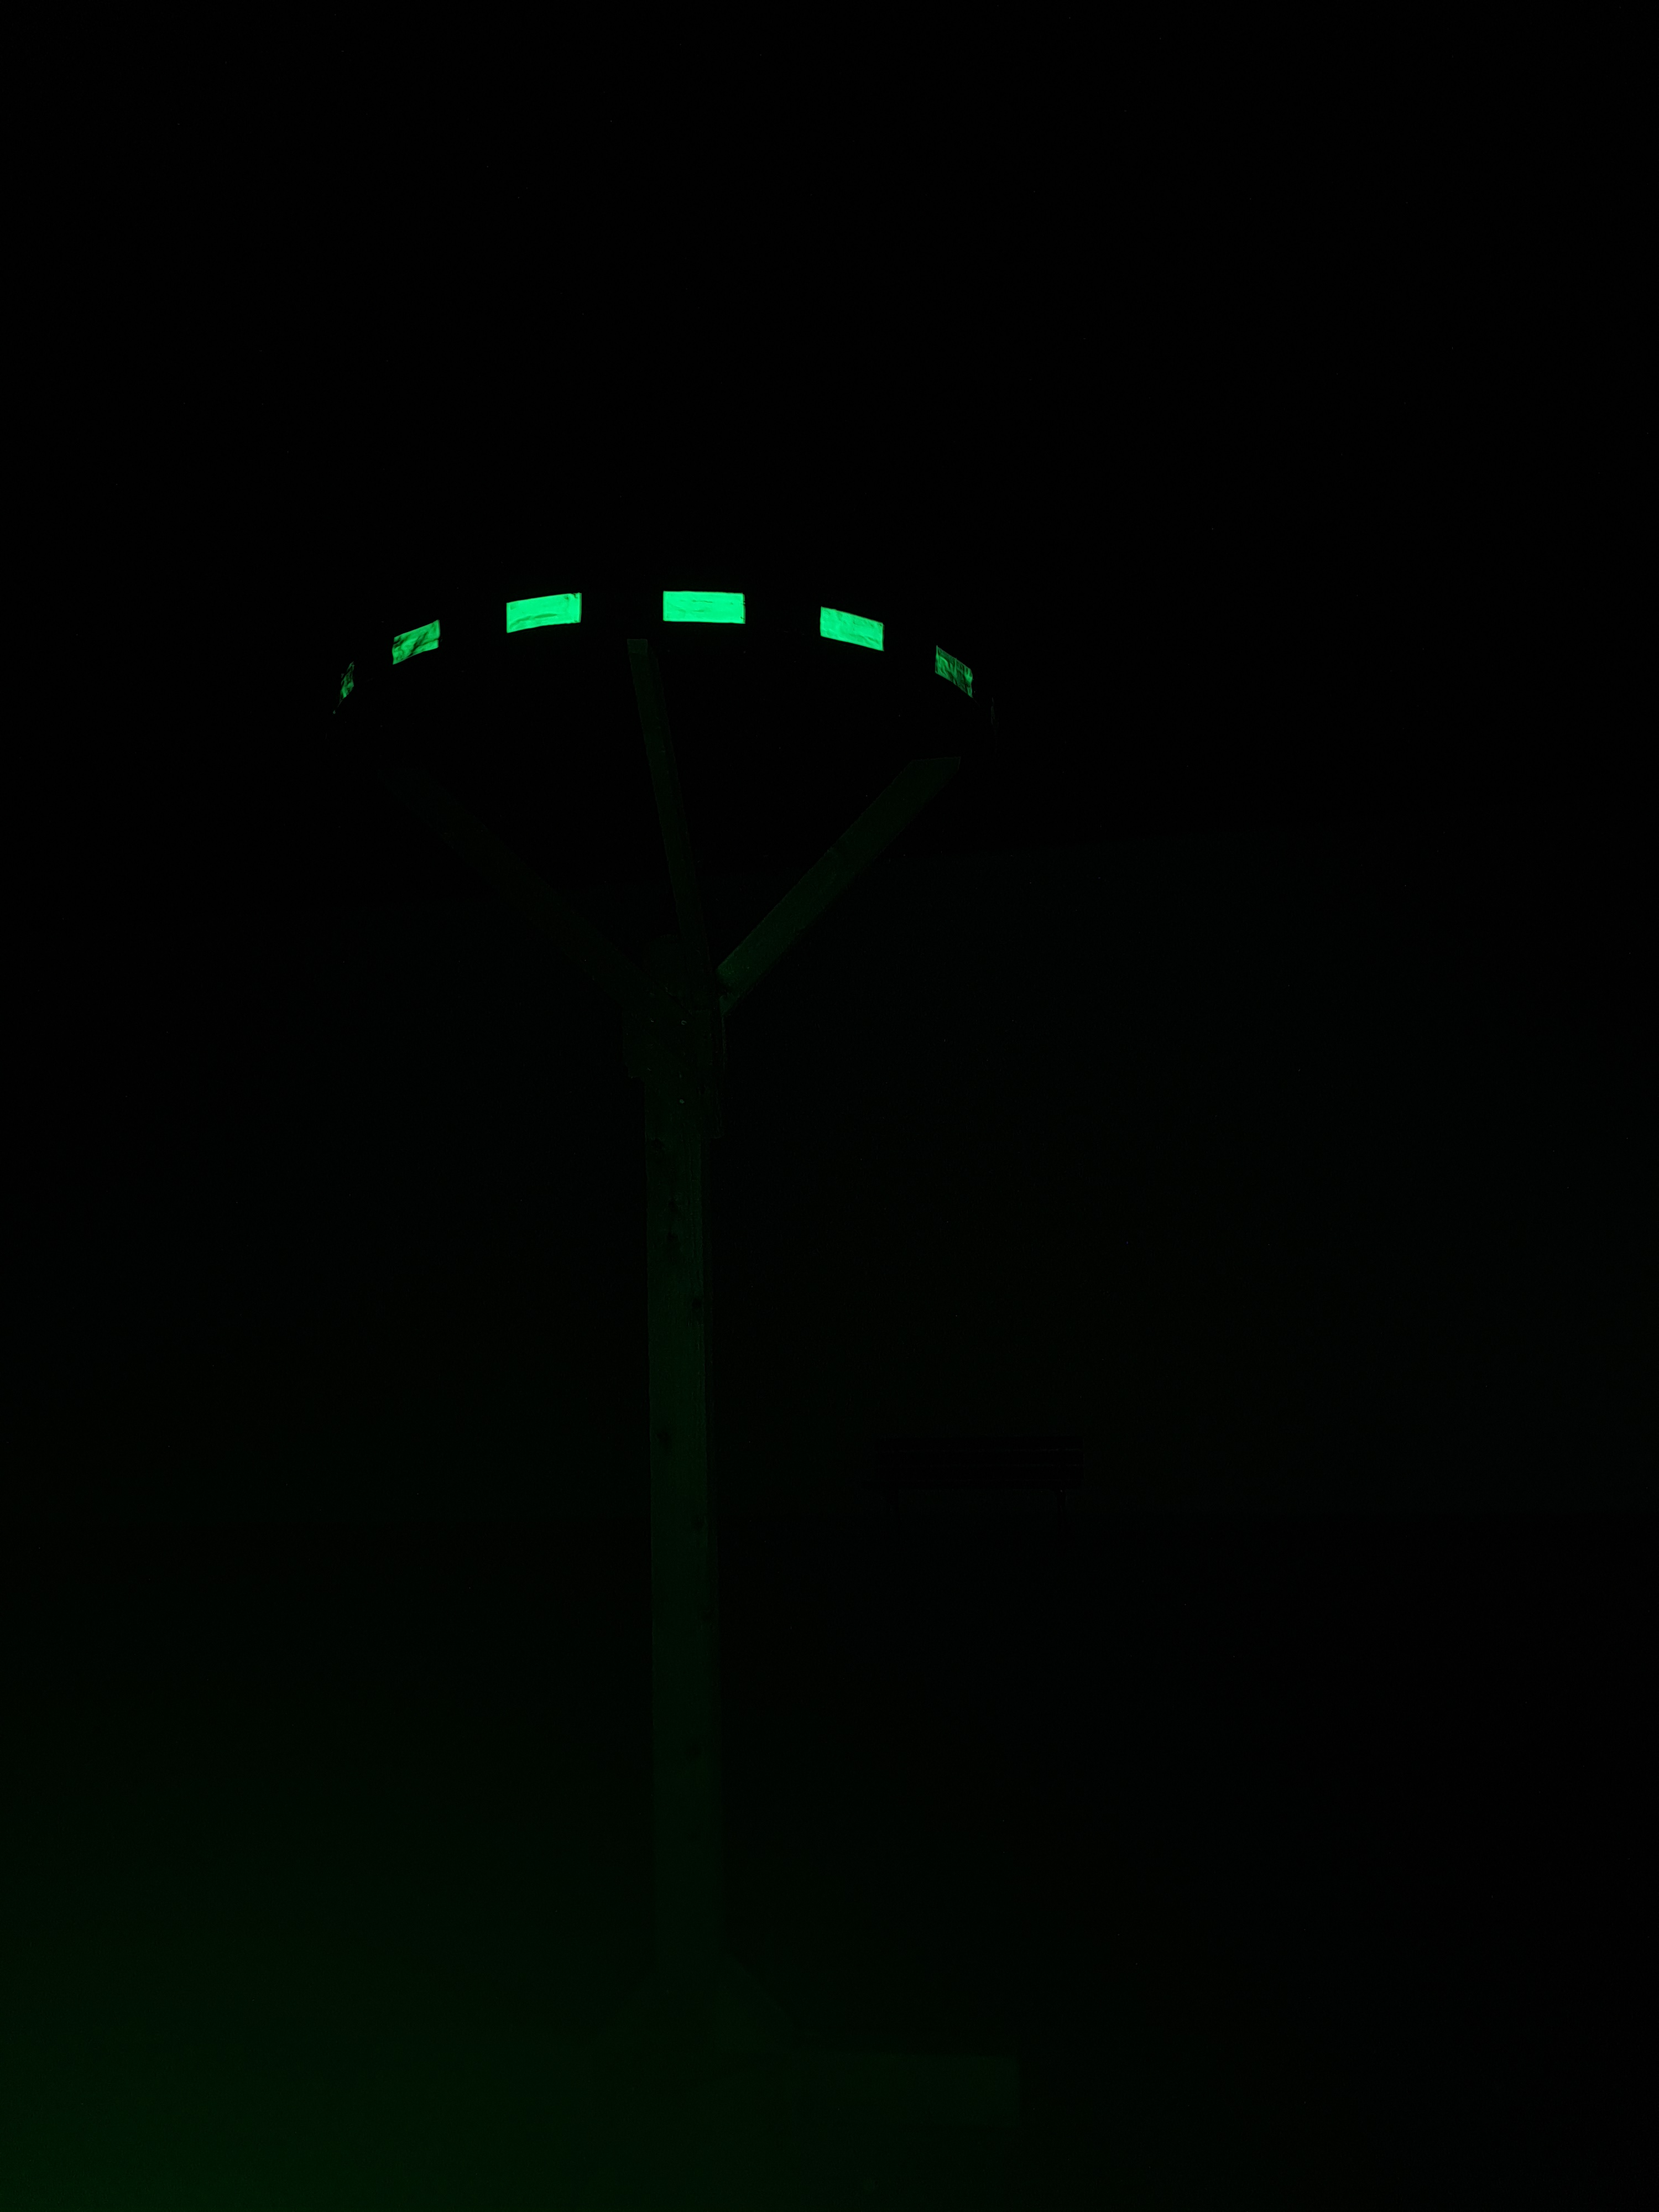hoop: (338, 587, 979, 718)
